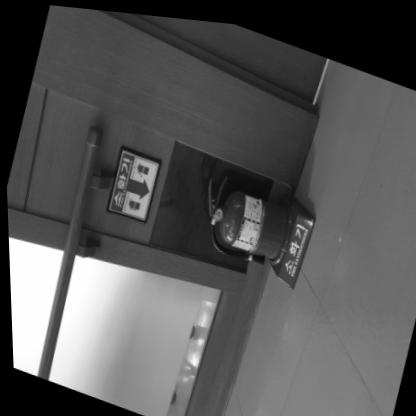FE: (185, 157, 319, 285)
